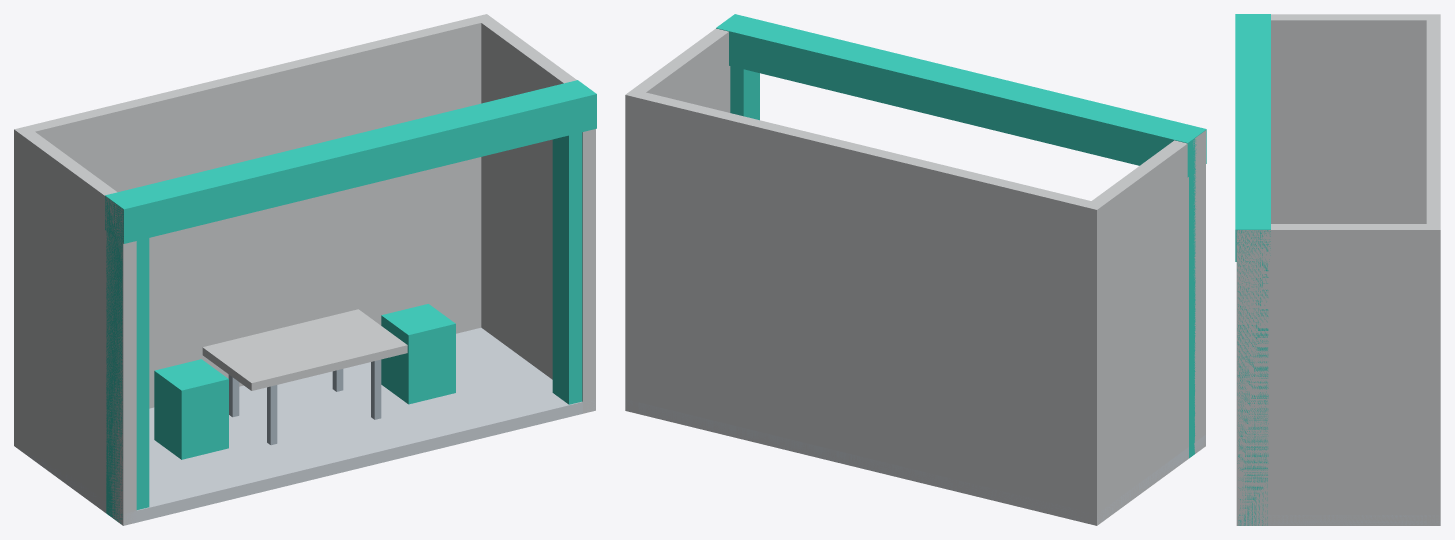
3 views of the same model, side by side, from view 1: azimuth 30°, elevation 25°; view 2: azimuth 150°, elevation 25°; view 3: azimuth 270°, elevation 25° (orthographic). The views are drawn at different scales.
Parts seen in each view (by area): view 1: Exhibition Booth Concept; view 2: Exhibition Booth Concept; view 3: Exhibition Booth Concept.
Boxes of the visible parts, left/top/right/bottom form: Exhibition Booth Concept: left=14, top=14, right=596, bottom=525; Exhibition Booth Concept: left=625, top=14, right=1206, bottom=525; Exhibition Booth Concept: left=1235, top=14, right=1440, bottom=525.
Bounding box in the file's own units: 5 × 3.2 × 2.01.
